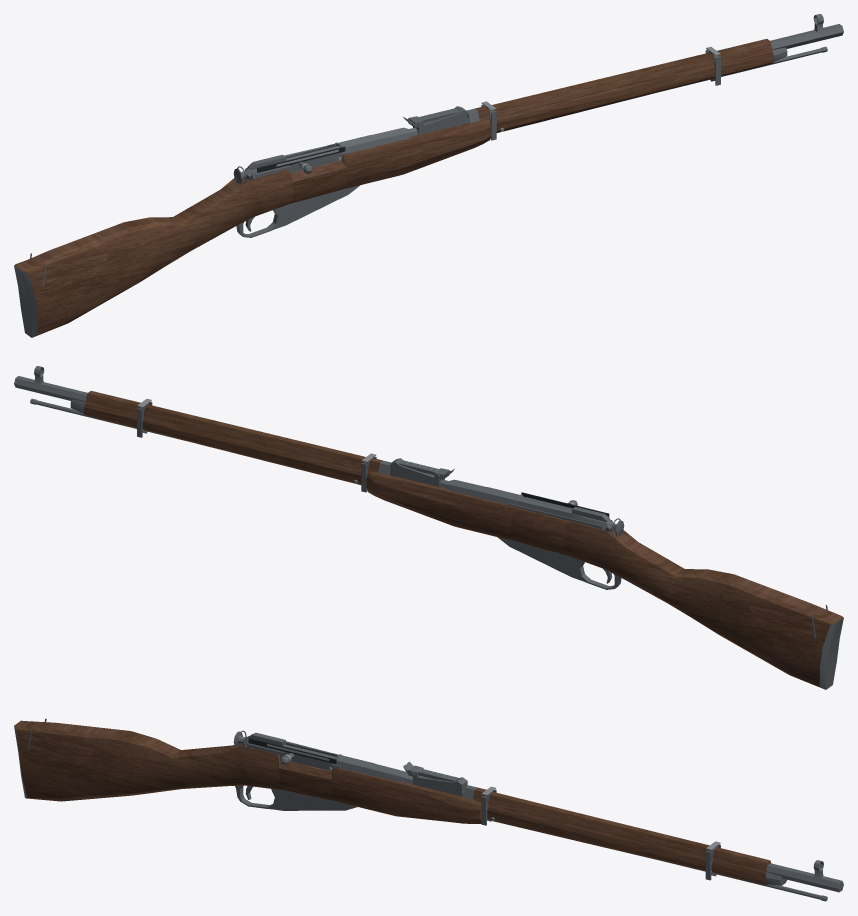
Rendered from mosin9130-detail112.glb.
3 views of the same model, one above another, from view 1: azimuth 30°, elevation 25°; view 2: azimuth 150°, elevation 25°; view 3: azimuth 330°, elevation 25° (orthographic).
Parts seen in each view (by area): view 1: Tabasco_mosin9130_retained_base_chamfered112; view 2: Tabasco_mosin9130_retained_base_chamfered112; view 3: Tabasco_mosin9130_retained_base_chamfered112.
Boxes of the visible parts, left/top/right/bottom form: Tabasco_mosin9130_retained_base_chamfered112: left=14, top=14, right=843, bottom=337; Tabasco_mosin9130_retained_base_chamfered112: left=14, top=366, right=843, bottom=689; Tabasco_mosin9130_retained_base_chamfered112: left=14, top=718, right=843, bottom=901.
Size of the model in its own units: 1.25 by 0.1853 by 0.0572.
Materials: 4 (2 with a texture image).
